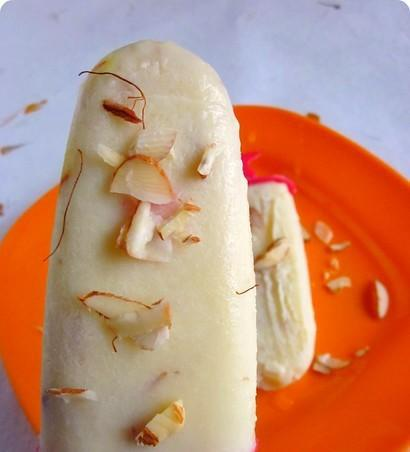Kulfi: (39, 40, 259, 452), (225, 183, 316, 392)
